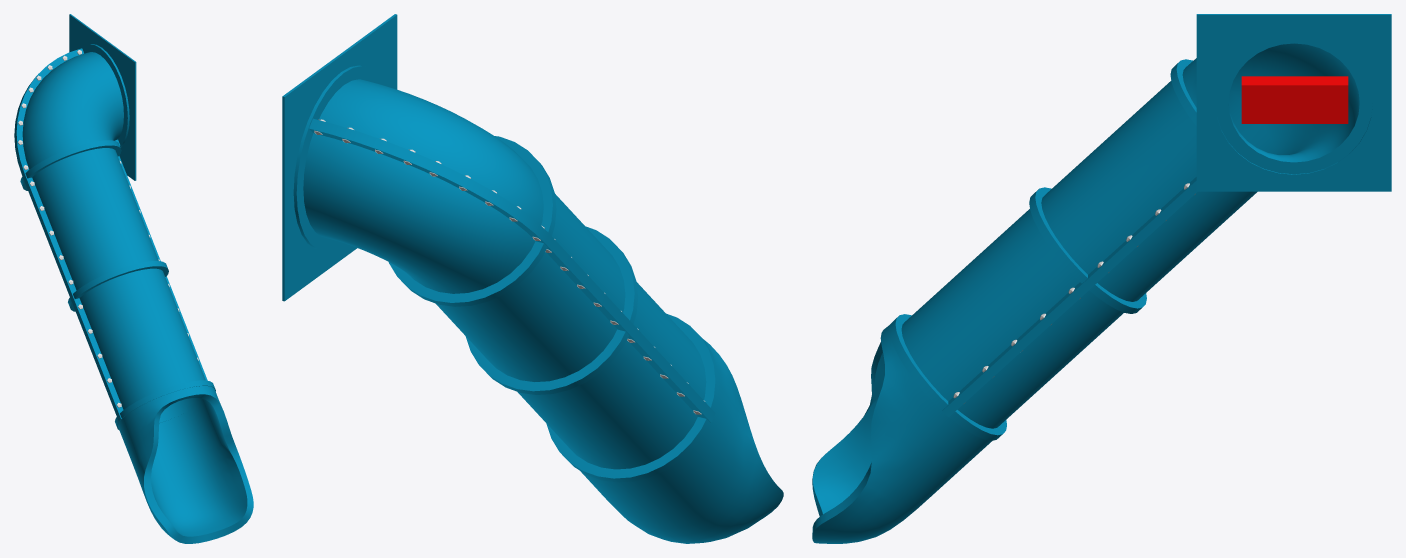
Rendered from Side Winder Slide - 7ft.glb.
3 views of the same model, side by side, from view 1: azimuth 30°, elevation 25°; view 2: azimuth 150°, elevation 25°; view 3: azimuth 270°, elevation 25° (orthographic). The views are drawn at different scales.
Parts seen in each view (by area): view 1: Circle006,_colorize_, Circle006_1; view 2: Circle006,_colorize_, Circle006_1; view 3: Circle006,_colorize_, joint_c,1,8.
Boxes of the visible parts, x1,y1,x2,y2 form: Circle006,_colorize_: (14, 14, 253, 543); Circle006_1: (18, 50, 198, 407); Circle006,_colorize_: (282, 14, 783, 543); Circle006_1: (314, 119, 705, 414); Circle006,_colorize_: (812, 14, 1391, 543); joint_c,1,8: (1241, 76, 1348, 123).
Bounding box in the file's own units: 0.9234 × 2.89 × 2.72.
